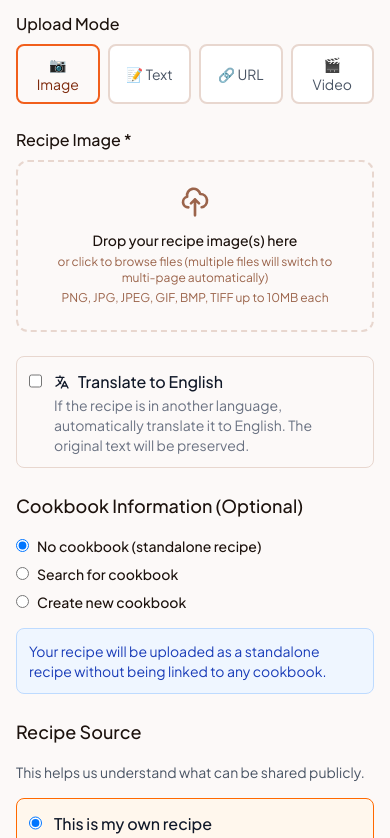
Test: UploadForm › Text Mode › shows character count
Click the button "📝 Text" at point(149, 74), box [108,44,191,104]
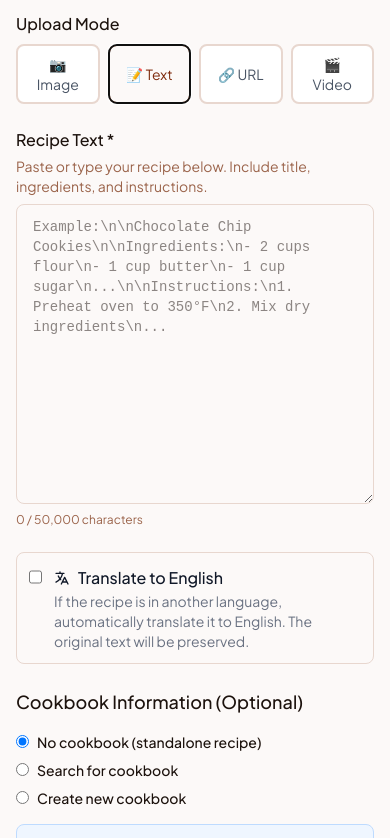
Type "Test" into the text box with placeholder "Example:" at point(195, 354), box [16,204,374,504]
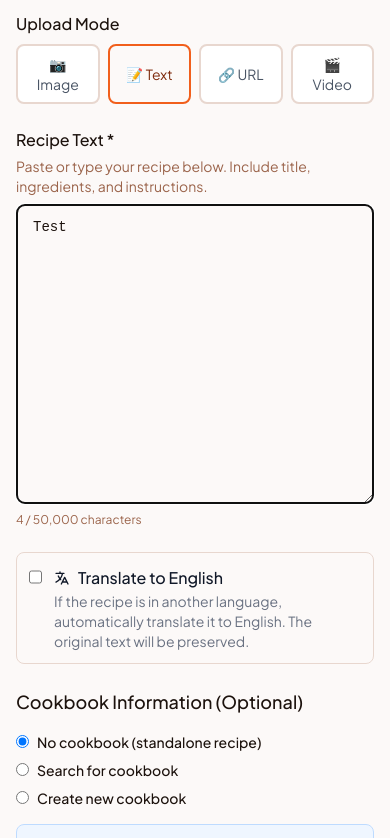
Result: the text "4 / 50,000 characters" is shown at [16,512,142,528]
